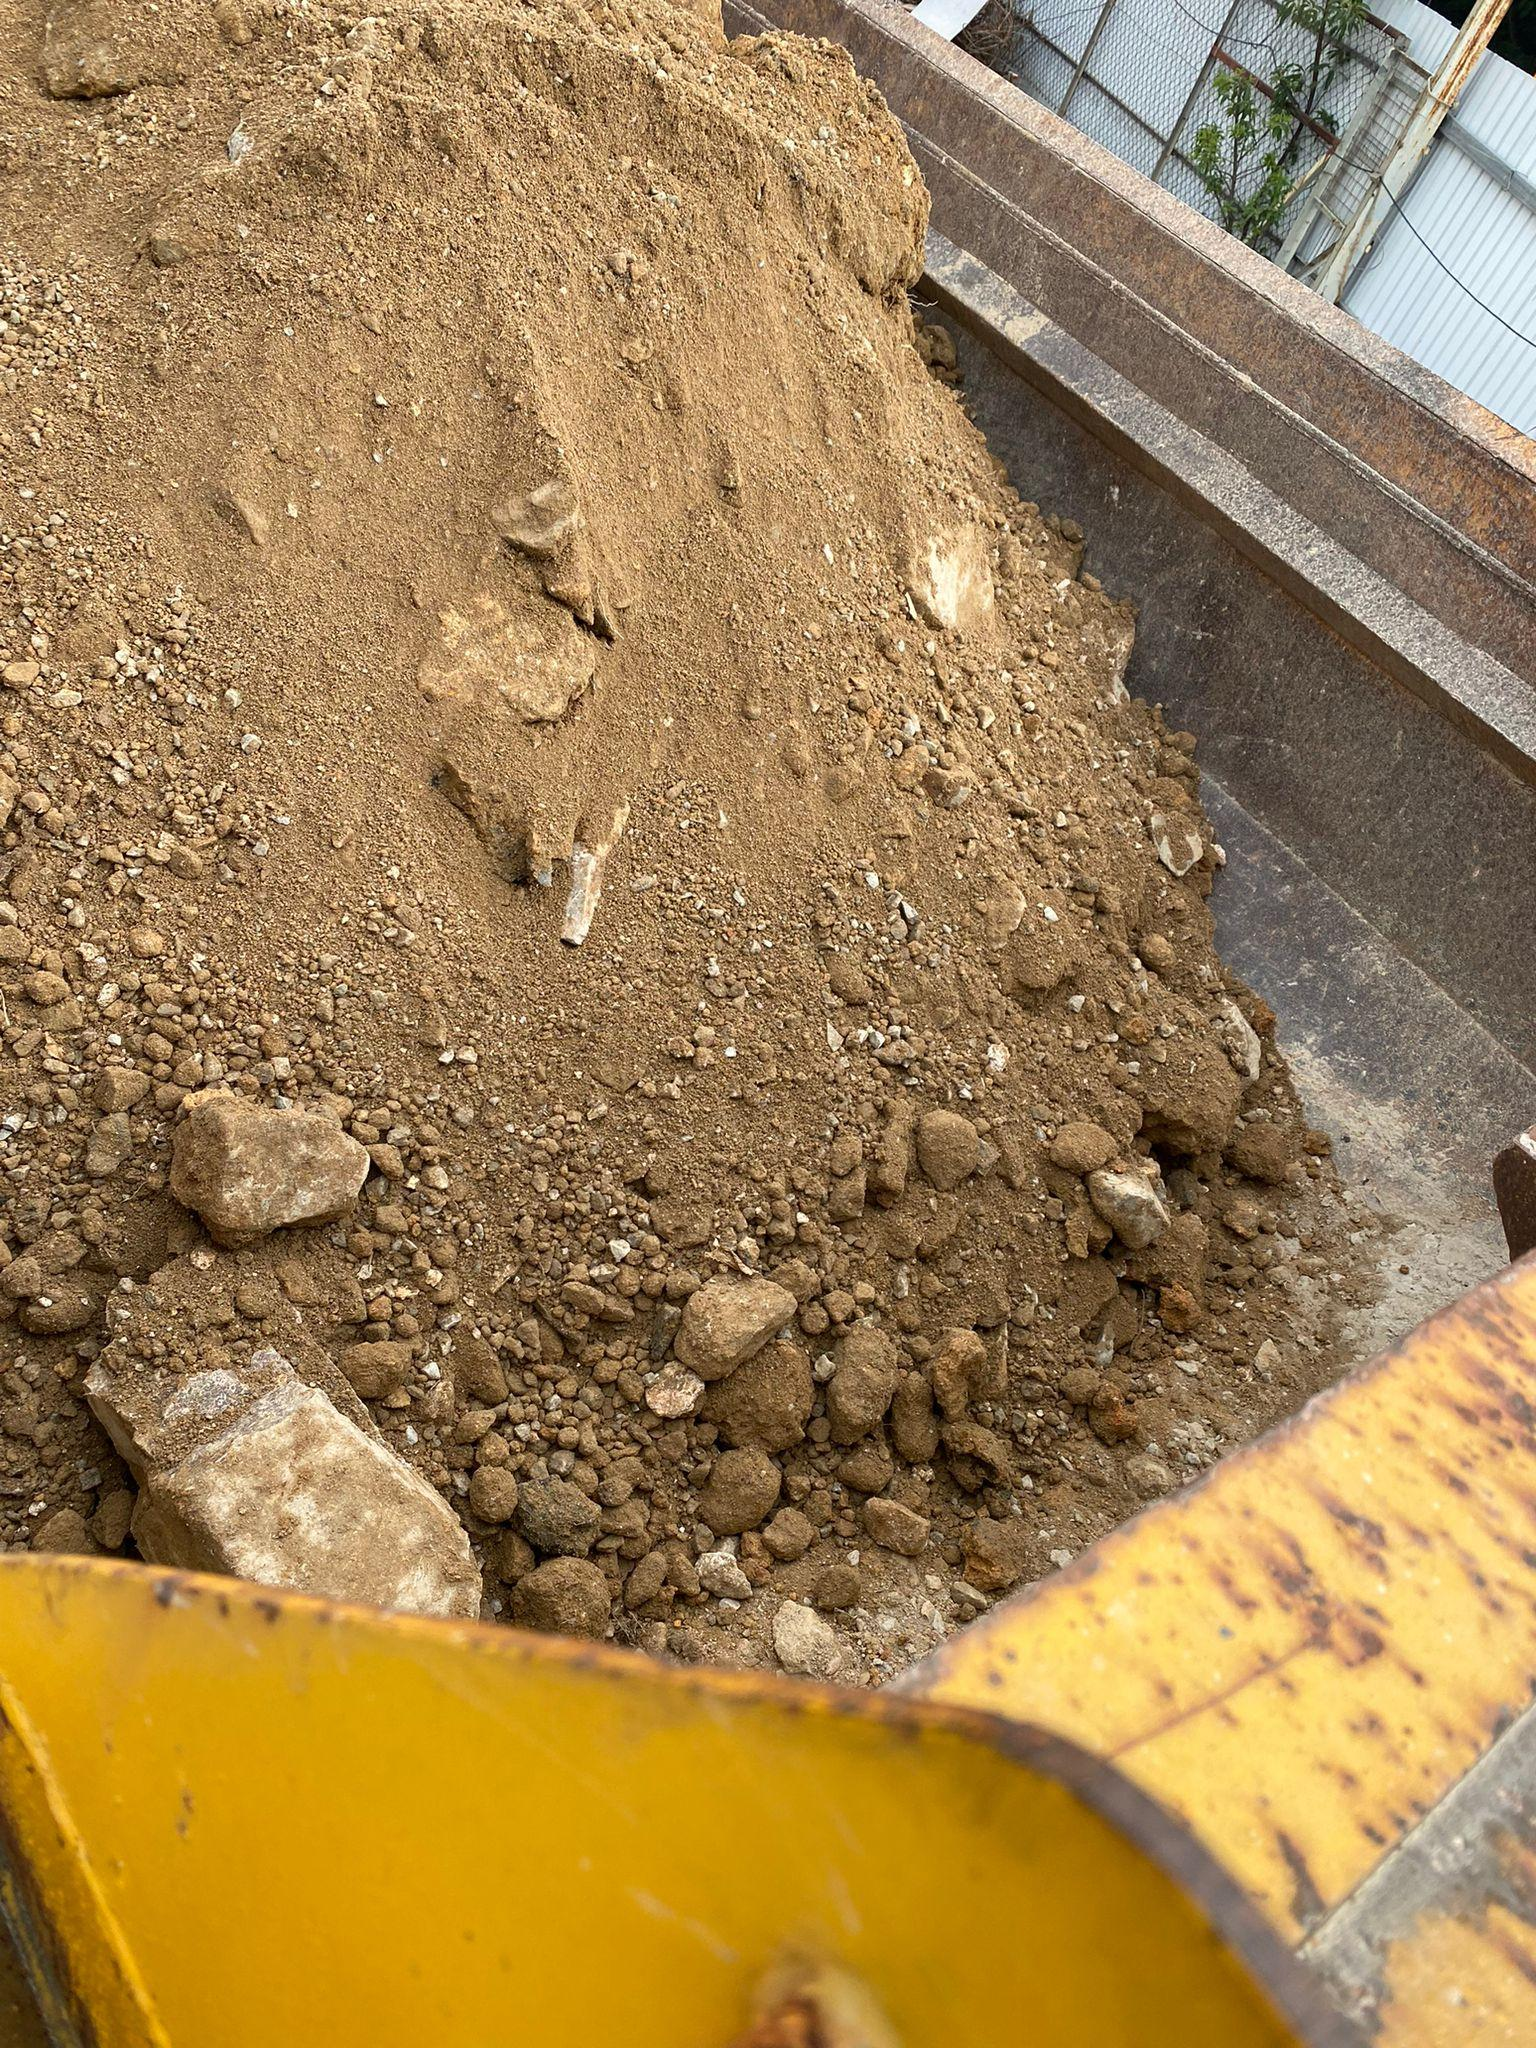dry: (19, 0, 1270, 1650)
